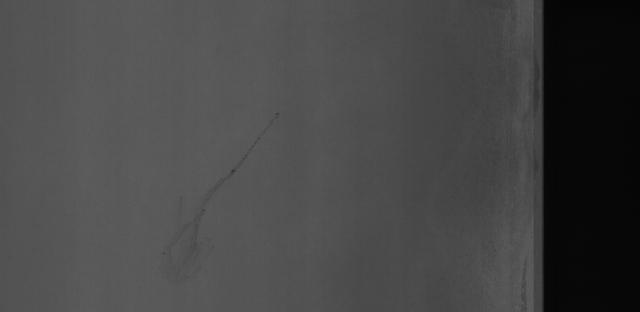water_spot: (165, 111, 317, 275)
